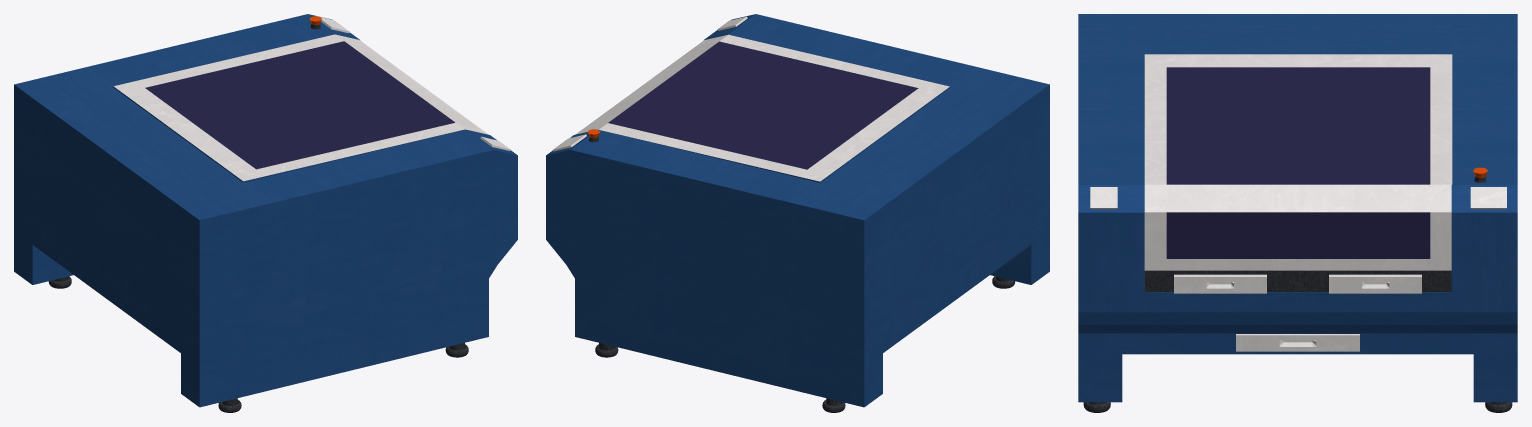
Rendered from laser_cut.fbx.
The picture shows the model from 3 angles, left to right: view 1: azimuth 30°, elevation 25°; view 2: azimuth 150°, elevation 25°; view 3: azimuth 270°, elevation 25°; orthographic projection. The views are drawn at different scales.
Parts seen in each view (by area): view 1: laser_cut; view 2: laser_cut; view 3: laser_cut.
Boxes of the visible parts, x1,y1,x2,y2 form: laser_cut: [14, 14, 517, 412]; laser_cut: [546, 14, 1049, 412]; laser_cut: [1078, 14, 1517, 412].
Size of the model in its own units: 217 by 136 by 217.
